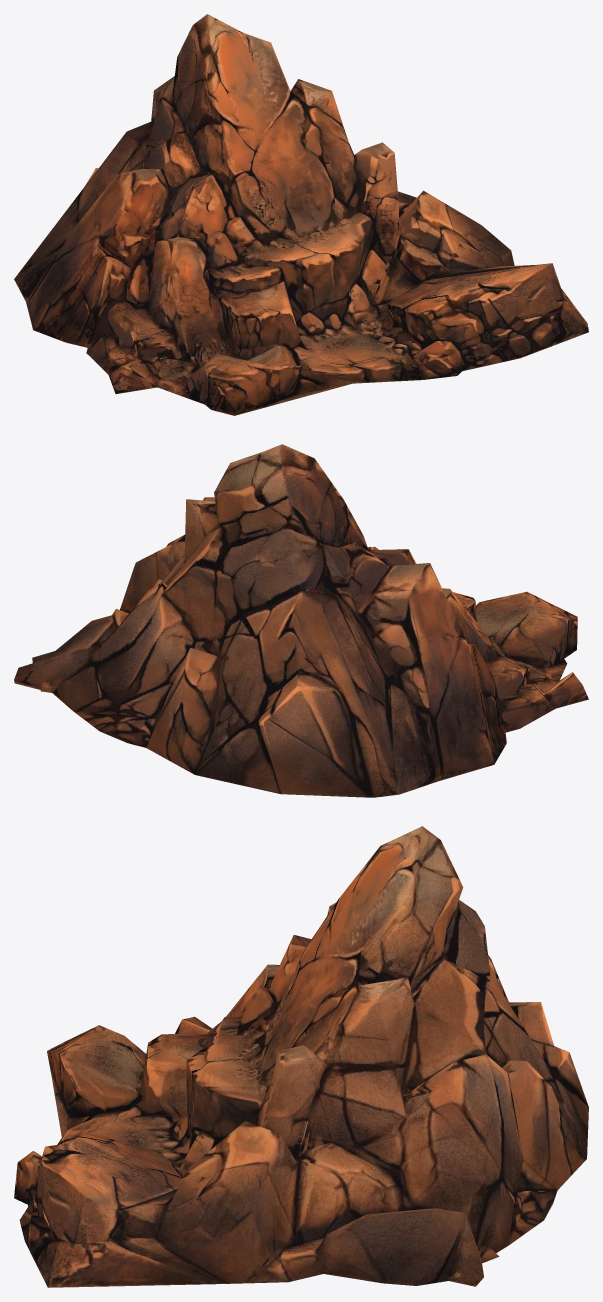
The model's file is env_rocks.glb.
3 renders of one model, top to bottom at view 1: azimuth 30°, elevation 25°; view 2: azimuth 150°, elevation 25°; view 3: azimuth 270°, elevation 25°, orthographic. The views are drawn at different scales.
Bounding box in the file's own units: 1.89 × 1.12 × 1.8.
Materials: 1 (1 with a texture image).
